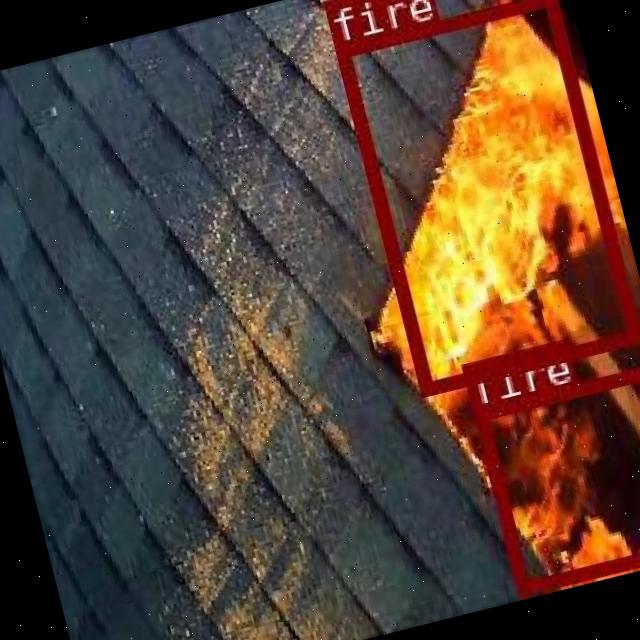fire: (333, 0, 640, 393), (468, 364, 640, 594)
